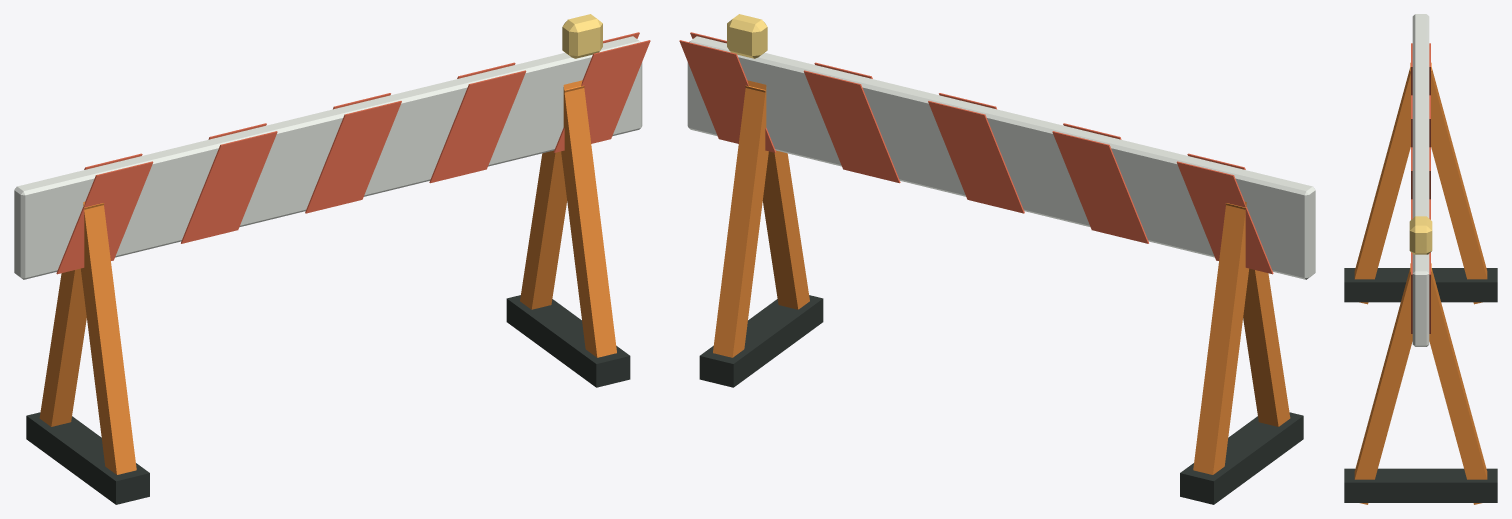
File: sm_env_prop_road_barrier.glb
The picture shows the model from 3 angles, left to right: view 1: azimuth 30°, elevation 25°; view 2: azimuth 150°, elevation 25°; view 3: azimuth 270°, elevation 25°; orthographic projection. The views are drawn at different scales.
Visible parts, largest first — view 1: BarrierBoard, BarrierLeg.002, BarrierLeg, BarrierStripe.007, BarrierStripe.003, BarrierStripe.005, BarrierFoot.001, BarrierFoot, BarrierLeg.003, BarrierLeg.001, BarrierStripe.009, BarrierStripe.001 (+1 smaller); view 2: BarrierBoard, BarrierLeg.003, BarrierLeg.001, BarrierStripe.006, BarrierStripe.002, BarrierStripe.004, BarrierFoot.001, BarrierFoot, BarrierLeg.002, BarrierLeg, BarrierStripe.008, BarrierStripe (+1 smaller); view 3: BarrierBoard, BarrierFoot.001, BarrierLeg.002, BarrierLeg.003, BarrierLeg, BarrierLeg.001, BarrierFoot, BarrierLight.
Boxes of the visible parts, x1,y1,x2,y2 form: BarrierBoard: [14, 36, 642, 279]; BarrierLeg.002: [561, 80, 616, 357]; BarrierLeg: [81, 201, 136, 474]; BarrierStripe.007: [429, 70, 526, 183]; BarrierStripe.003: [181, 131, 277, 243]; BarrierStripe.005: [305, 101, 401, 213]; BarrierFoot.001: [506, 295, 630, 387]; BarrierFoot: [26, 412, 149, 504]; BarrierLeg.003: [520, 85, 584, 309]; BarrierLeg.001: [39, 203, 104, 426]; BarrierStripe.009: [554, 40, 650, 152]; BarrierStripe.001: [56, 161, 153, 274]; BarrierBoard: [687, 36, 1315, 279]; BarrierLeg.003: [713, 80, 768, 357]; BarrierLeg.001: [1193, 201, 1248, 474]; BarrierStripe.006: [803, 70, 900, 183]; BarrierStripe.002: [1052, 131, 1148, 243]; BarrierStripe.004: [928, 101, 1024, 213]; BarrierFoot.001: [699, 295, 823, 387]; BarrierFoot: [1180, 412, 1303, 504]; BarrierLeg.002: [745, 85, 809, 309]; BarrierLeg: [1225, 203, 1290, 426]; BarrierStripe.008: [679, 40, 775, 152]; BarrierStripe: [1176, 161, 1273, 274]; BarrierBoard: [1412, 14, 1429, 346]; BarrierFoot.001: [1344, 468, 1497, 502]; BarrierLeg.002: [1354, 263, 1431, 504]; BarrierLeg.003: [1410, 263, 1487, 504]; BarrierLeg: [1354, 62, 1431, 304]; BarrierLeg.001: [1410, 62, 1487, 304]; BarrierFoot: [1344, 268, 1497, 302]; BarrierLight: [1409, 216, 1432, 254].
Bounding box in the file's own units: 2.22 × 1.13 × 0.55.
